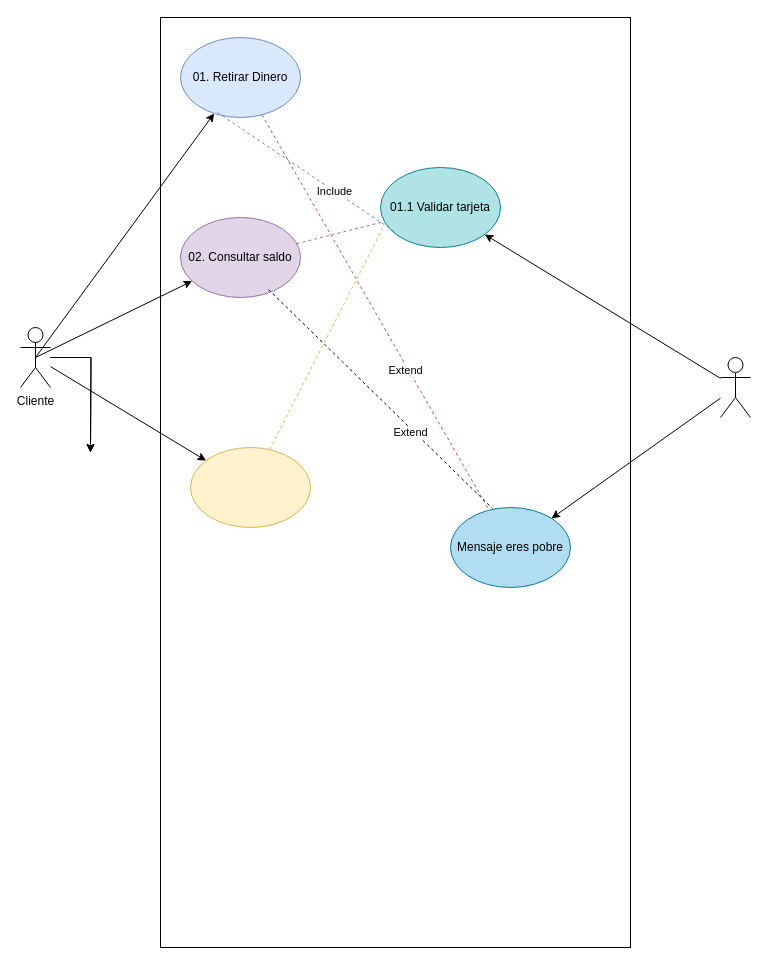
Some shapes in this 770 by 965 pixel diagram are drawn without their labels. The centre of each missing label's shape, as x and y in pixels:
"03. Depositar dinero" belongs at (250,487).
"Banco" belongs at (735,387).
